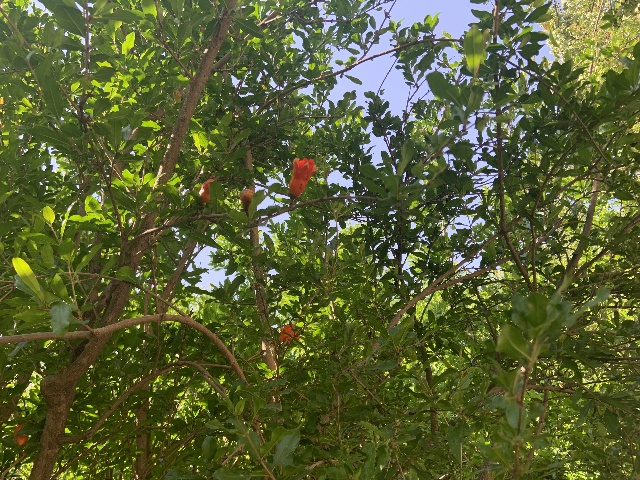bud: (198, 179, 214, 202), (240, 188, 254, 211), (13, 425, 27, 445)
flower: (288, 157, 317, 196), (279, 323, 300, 343)
